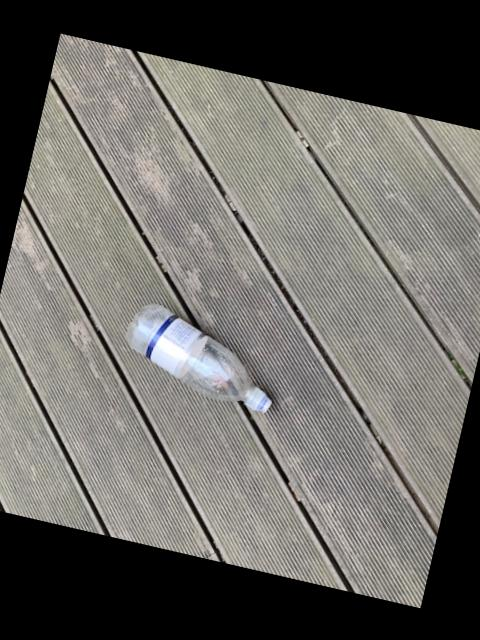plastic: (124, 304, 270, 412)
